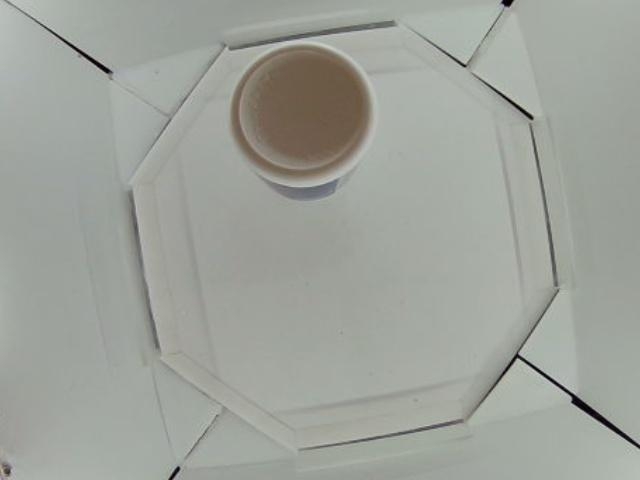Bottle: (234, 40, 379, 201)
